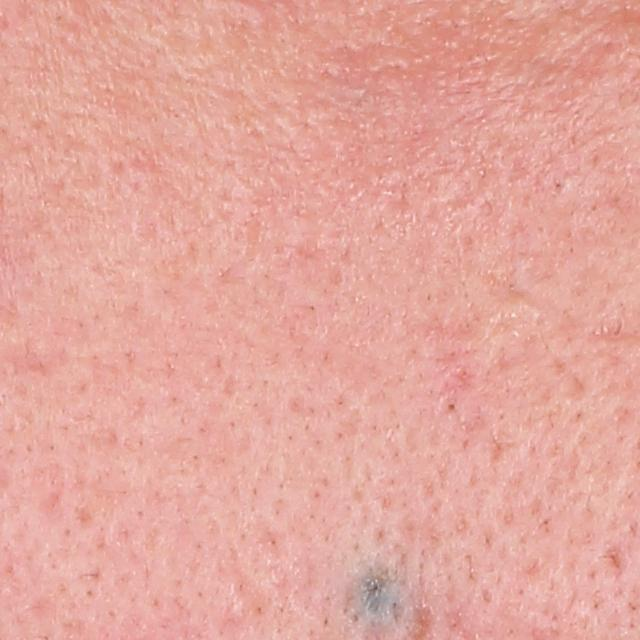other: (346, 543, 407, 633)
